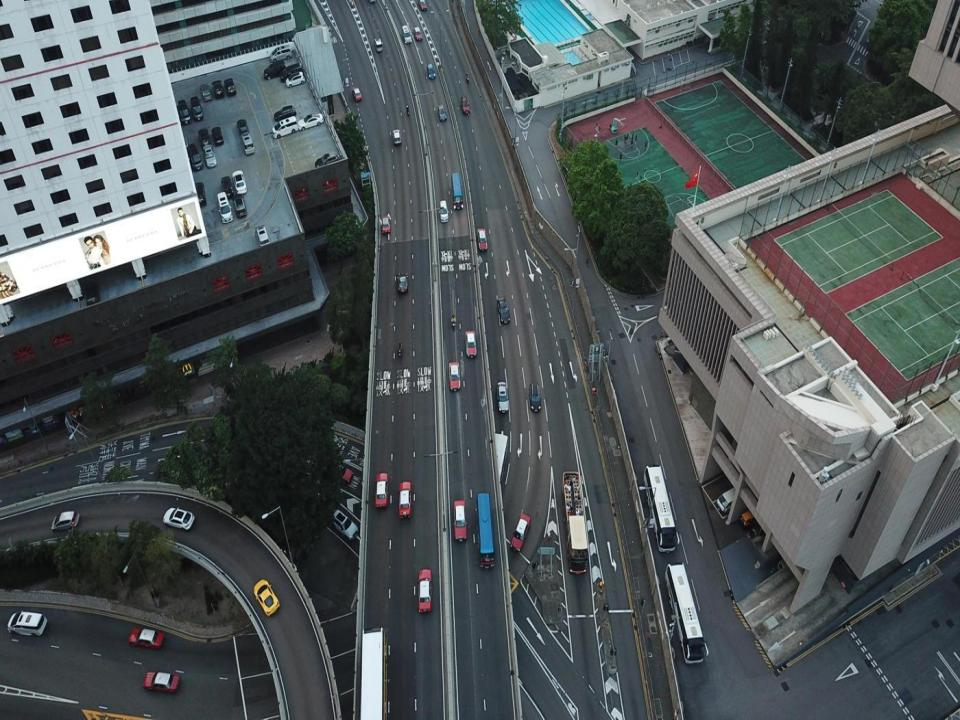bus: (664, 562, 704, 664), (644, 464, 676, 552), (562, 470, 588, 574), (361, 628, 388, 719), (476, 492, 495, 568), (487, 432, 507, 499), (452, 173, 463, 209)
car: (6, 611, 47, 636), (253, 578, 279, 617), (129, 627, 164, 649), (510, 514, 530, 552), (144, 670, 181, 690), (163, 506, 195, 529), (332, 510, 356, 540), (418, 568, 432, 612), (51, 511, 79, 532), (398, 481, 411, 518), (454, 501, 466, 541), (375, 473, 388, 507), (299, 113, 324, 130), (331, 464, 353, 483), (316, 152, 342, 168), (232, 170, 247, 195), (274, 106, 297, 122), (497, 297, 511, 323), (85, 282, 99, 307), (497, 381, 508, 411), (204, 144, 217, 168), (448, 363, 459, 391), (234, 194, 246, 218), (241, 132, 254, 154), (530, 383, 540, 411), (195, 182, 206, 207), (465, 332, 476, 356), (211, 125, 224, 145), (256, 225, 269, 245), (477, 228, 487, 252), (222, 176, 232, 198), (397, 272, 408, 292), (236, 119, 247, 137), (461, 95, 470, 114), (199, 128, 209, 145), (381, 216, 390, 234), (438, 104, 446, 120), (427, 64, 435, 79), (393, 130, 401, 144), (352, 88, 361, 100), (414, 27, 422, 40), (419, 0, 426, 10)
van: (716, 485, 742, 514), (271, 116, 298, 139), (216, 190, 232, 223), (188, 142, 203, 171), (263, 62, 286, 80), (280, 64, 302, 81), (270, 45, 292, 61), (285, 71, 306, 87), (178, 99, 191, 124), (191, 96, 203, 120), (199, 83, 212, 101), (212, 79, 223, 98), (225, 78, 236, 97), (440, 200, 449, 223), (402, 25, 411, 44), (374, 38, 382, 52)
